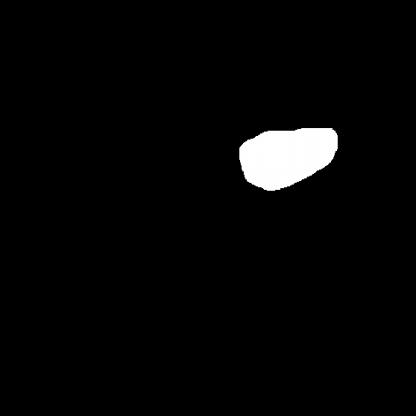benign: (232, 113, 347, 213)
